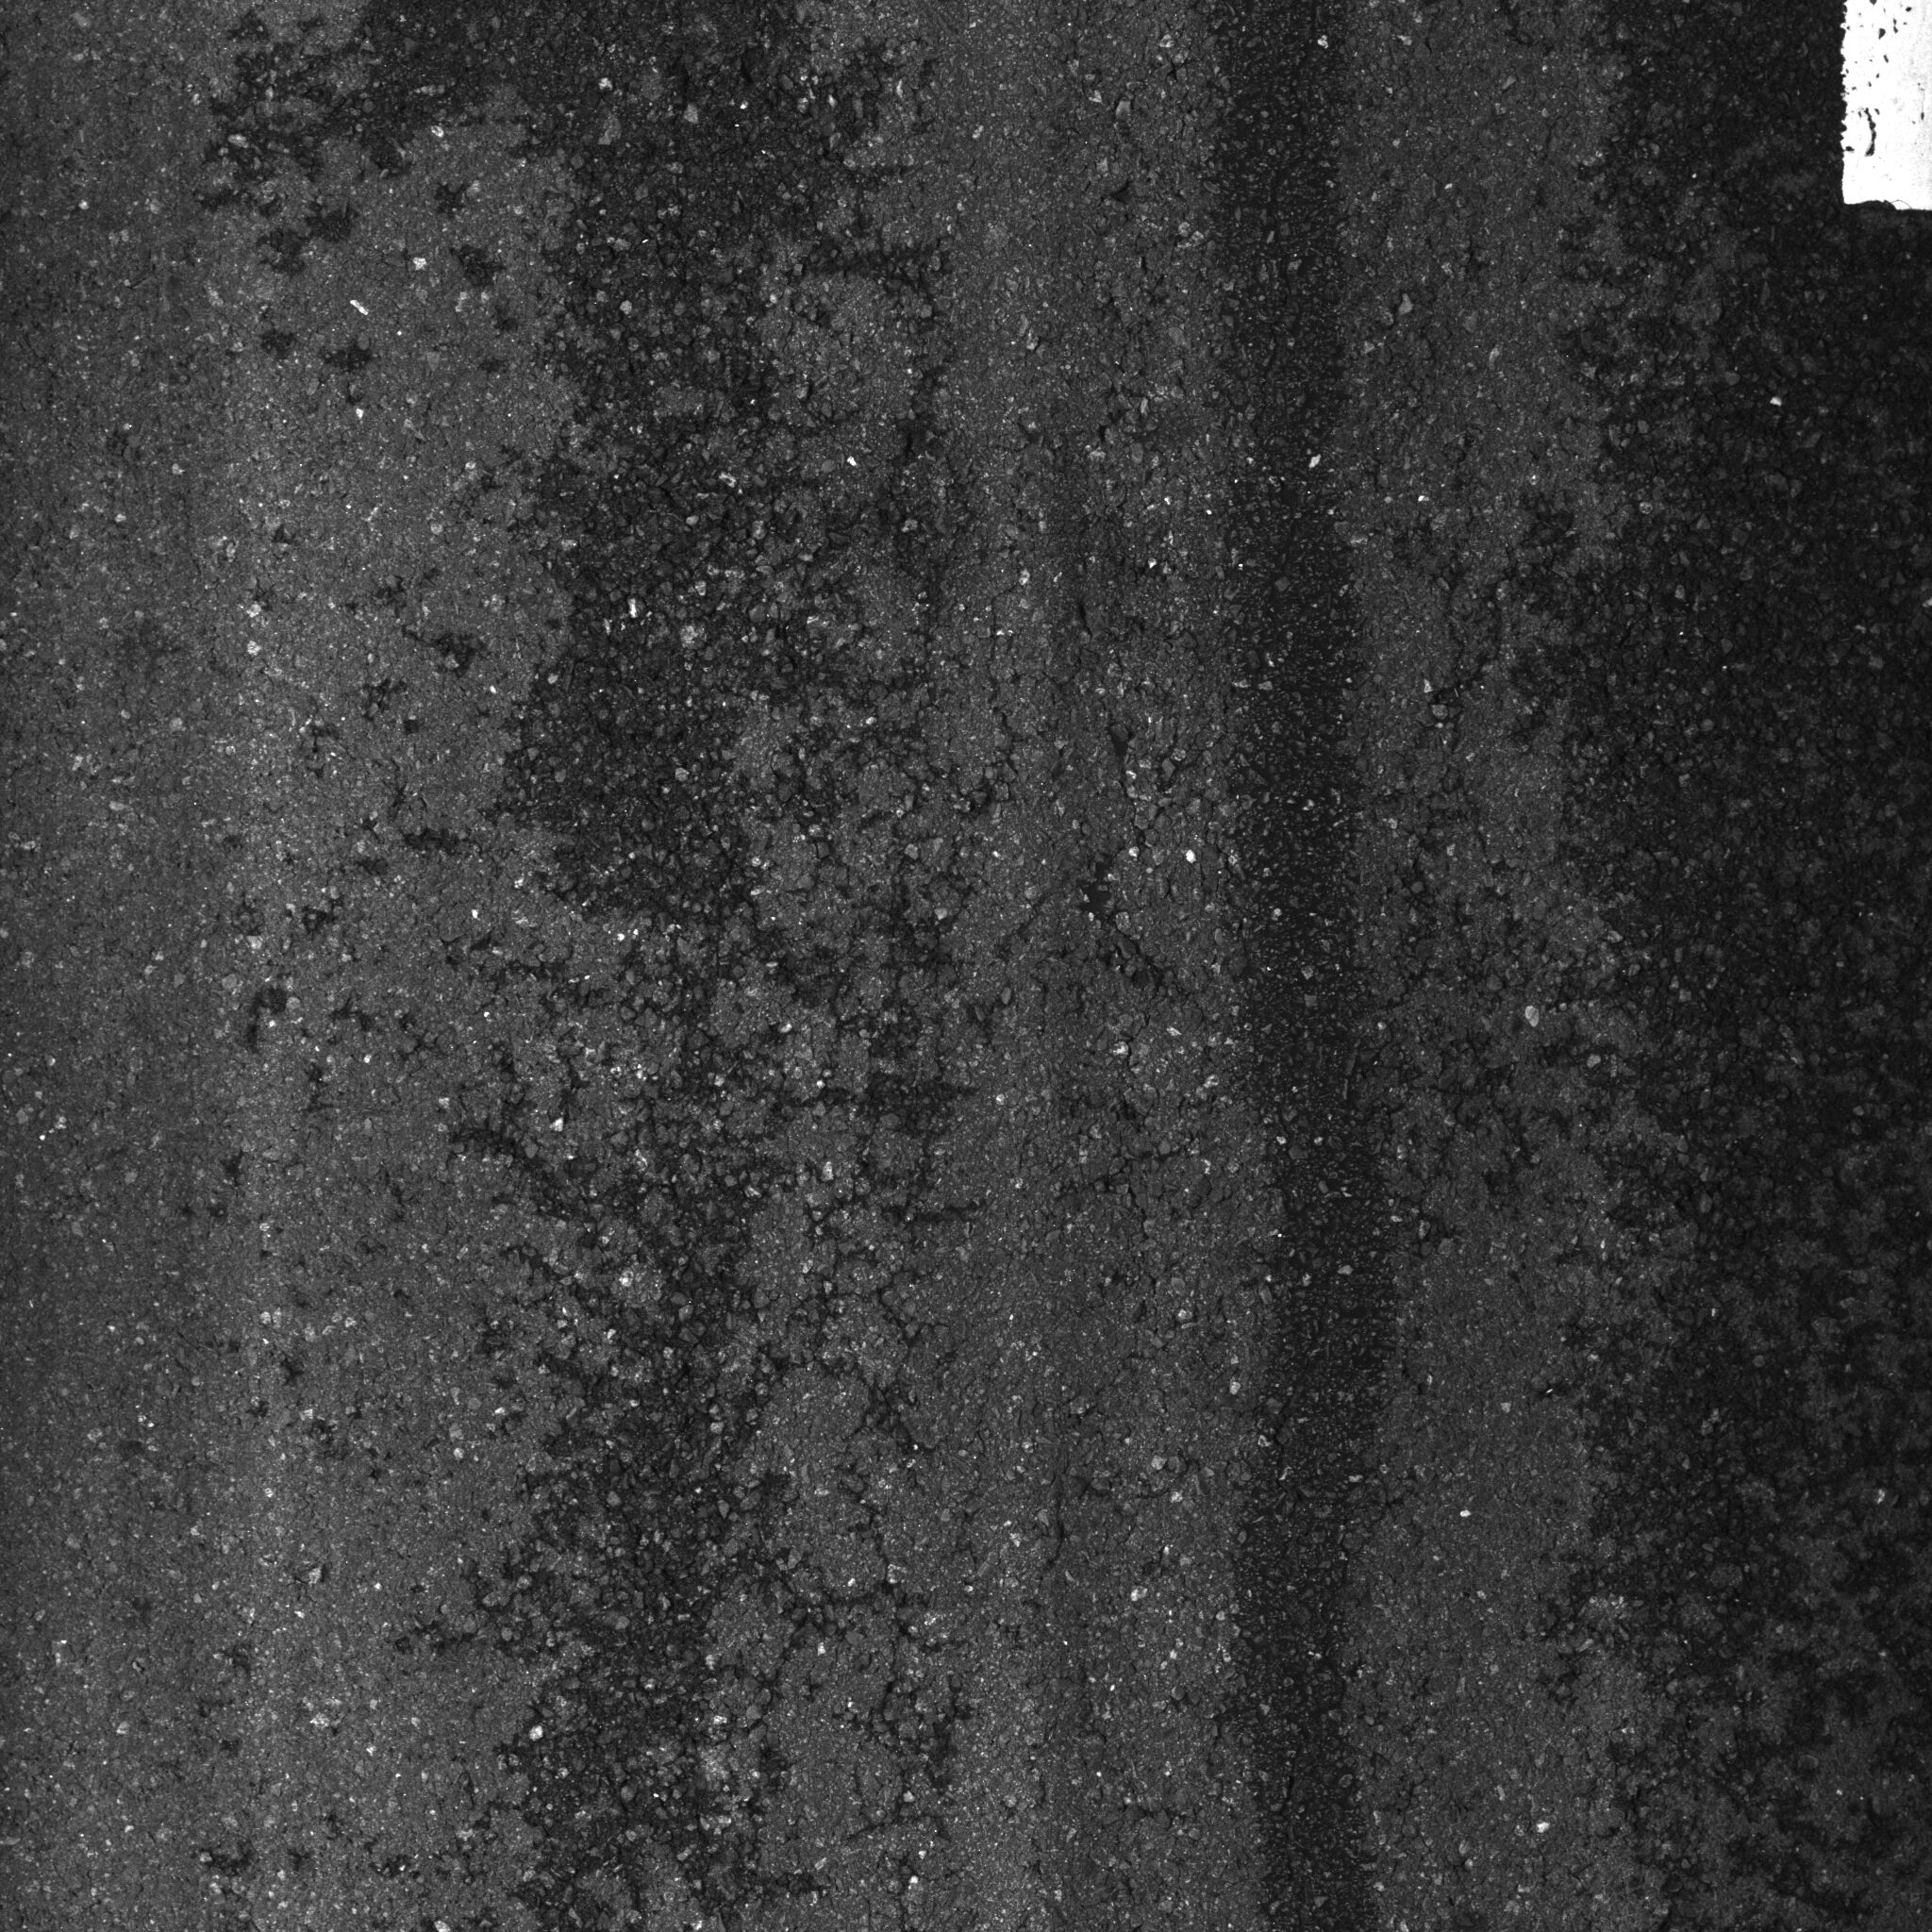alligator: (186, 19, 1566, 1932)
